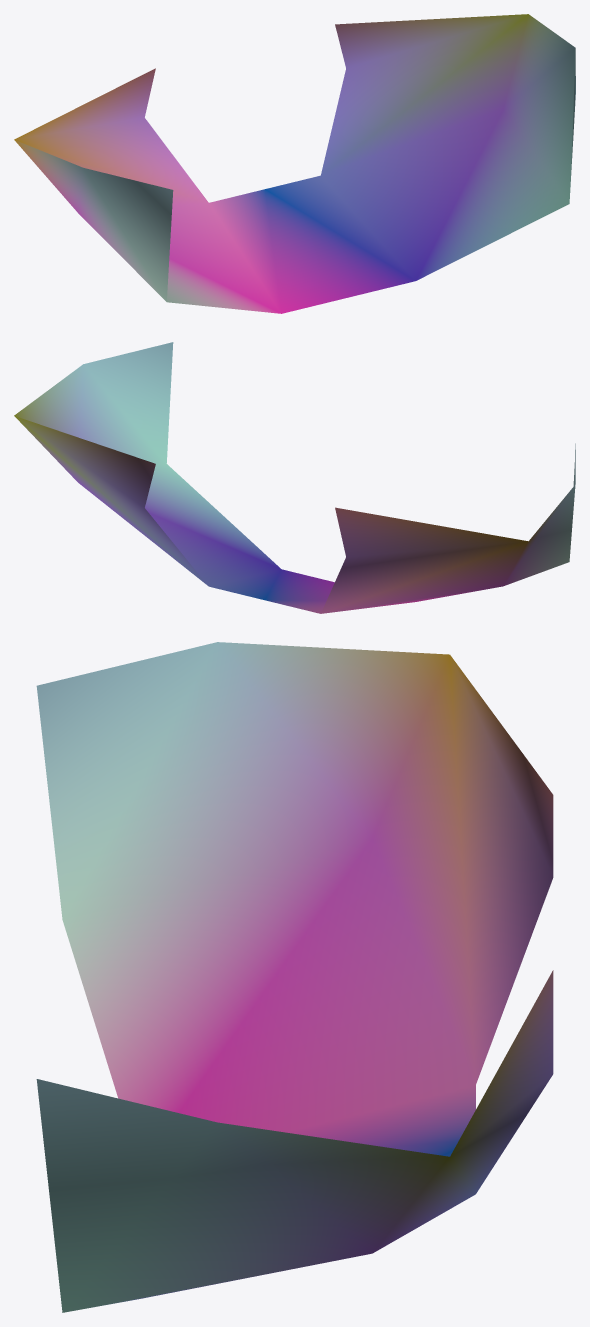
The picture shows the model from 3 angles, top to bottom: view 1: azimuth 30°, elevation 25°; view 2: azimuth 150°, elevation 25°; view 3: azimuth 270°, elevation 25°; orthographic projection. The views are drawn at different scales.
Visible parts, largest first — view 1: part; view 2: part; view 3: part.
Part boxes in pixels (x1,y1,x2,y2): part: (14,14,575,313); part: (14,342,575,613); part: (36,642,553,1312).
Size of the model in its own units: 46 by 15 by 20.
